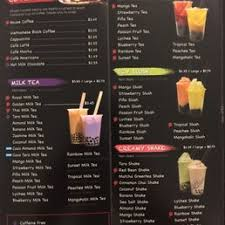not-coke: (173, 75, 212, 115)
